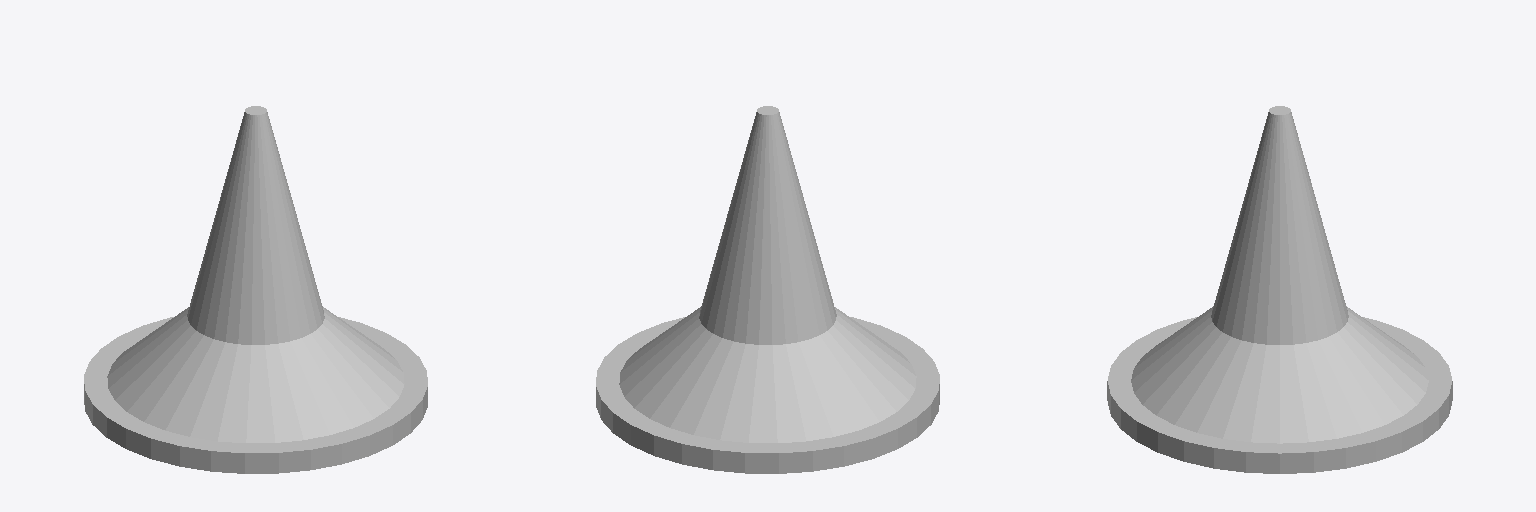
File: mShip1.obj
3 views of the same model, side by side, from view 1: azimuth 30°, elevation 25°; view 2: azimuth 150°, elevation 25°; view 3: azimuth 270°, elevation 25° (orthographic).
Size of the model in its own units: 0.0455 by 0.0423 by 0.0455.